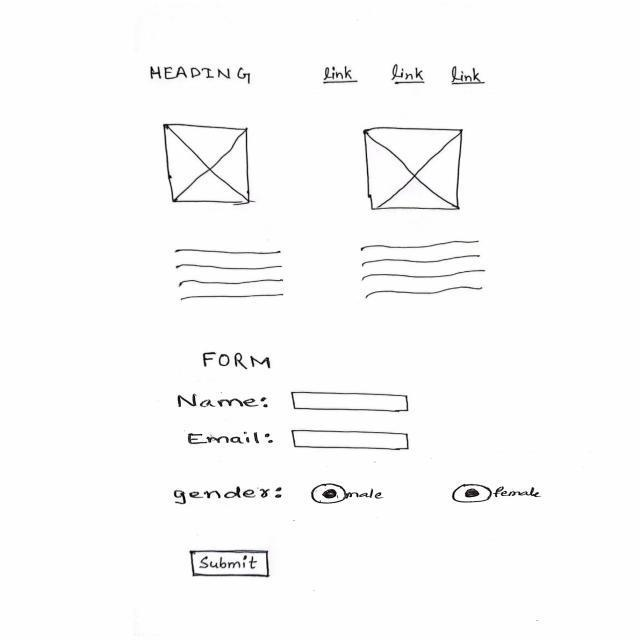radio: (449, 481, 495, 512), (310, 479, 347, 510)
textbox: (283, 424, 414, 457), (291, 388, 419, 416)
